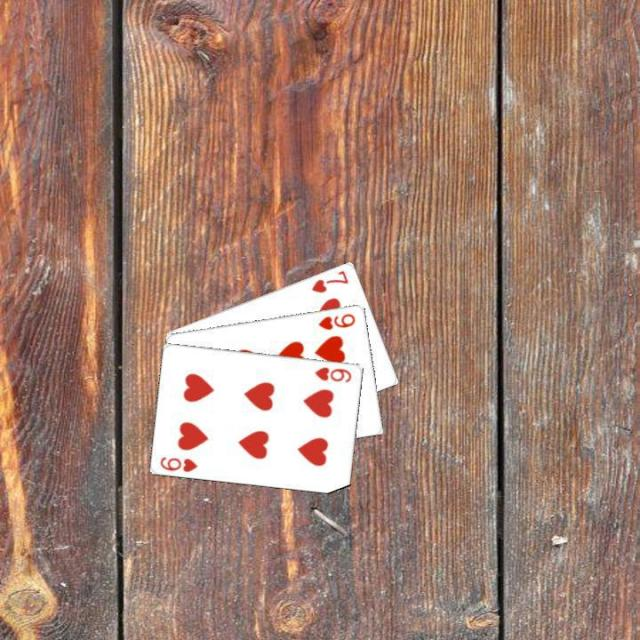6H: (157, 452, 199, 474), (311, 363, 354, 384)
7H: (308, 266, 350, 294)
9H: (315, 309, 357, 332)
